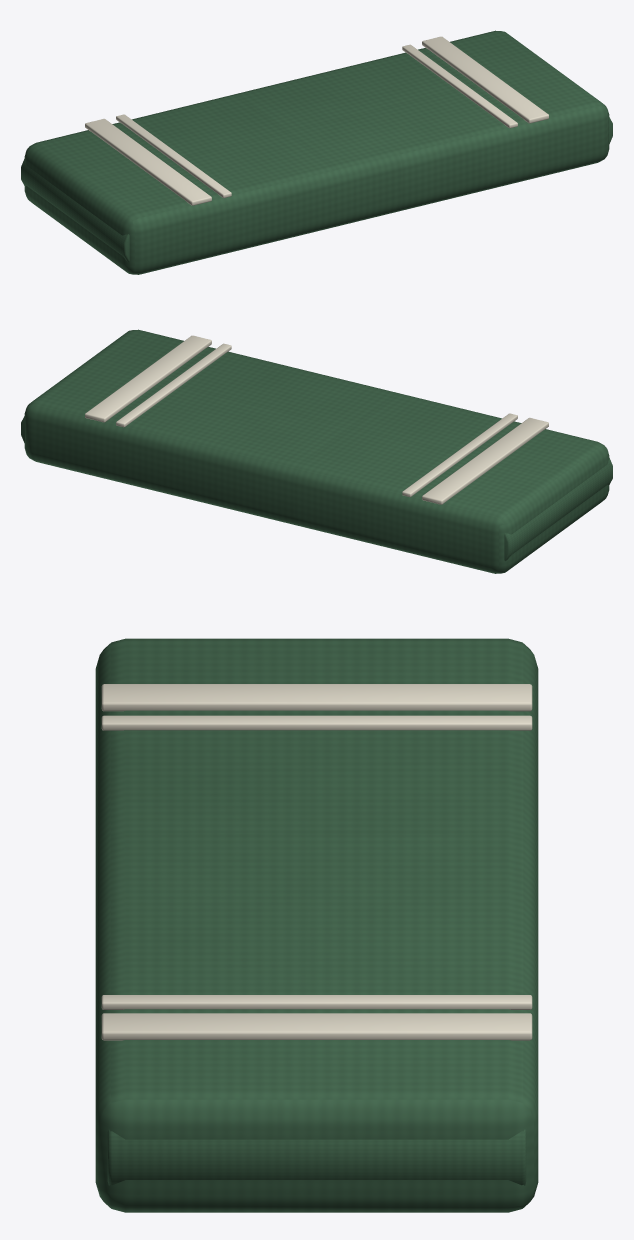
File: pf_towel_folded.glb
3 renders of one model, top to bottom at view 1: azimuth 30°, elevation 25°; view 2: azimuth 150°, elevation 25°; view 3: azimuth 270°, elevation 25°, orthographic. The views are drawn at different scales.
Visible parts, largest first — view 1: pf_towel_folded_body; view 2: pf_towel_folded_body; view 3: pf_towel_folded_body.
Part boxes in pixels (bbox=[...]): pf_towel_folded_body: bbox=[21, 30, 612, 274]; pf_towel_folded_body: bbox=[21, 329, 612, 573]; pf_towel_folded_body: bbox=[95, 638, 538, 1212].
Size of the model in its own units: 0.385 by 0.05 by 0.155.
3 materials, 1 textured.
